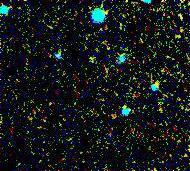star: (142, 68, 172, 98)
